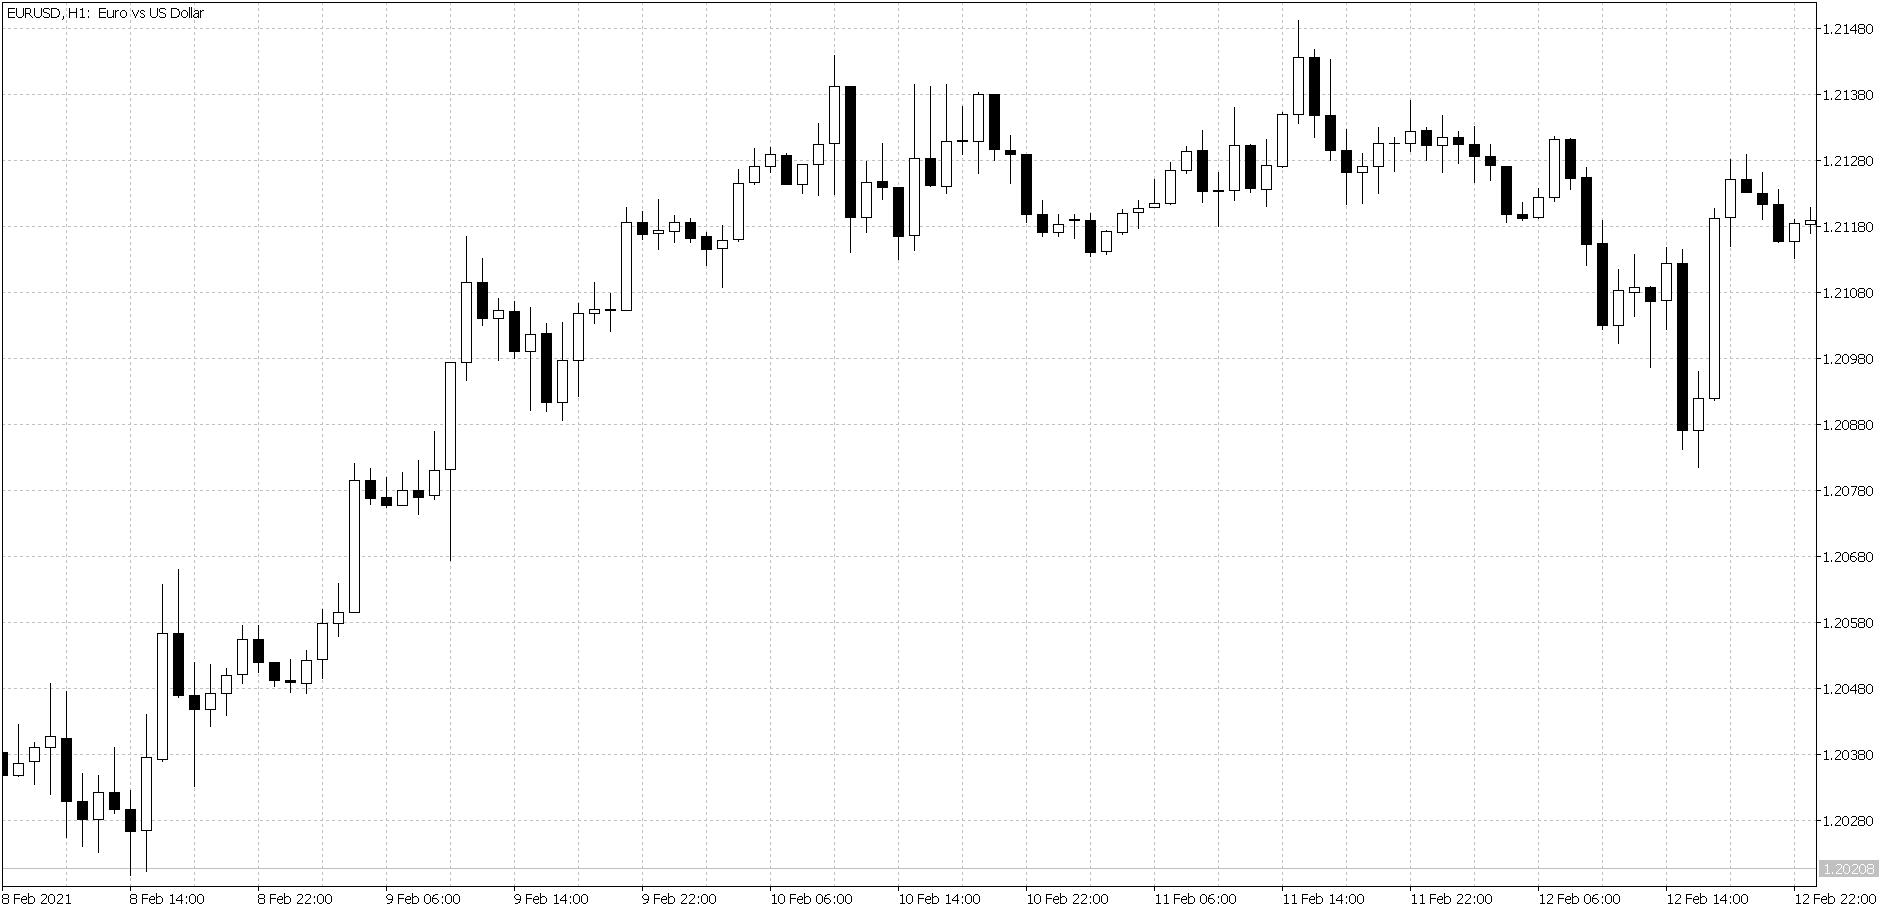3blackcrows: (1563, 124, 1611, 338)
morningStar: (265, 647, 316, 697)
